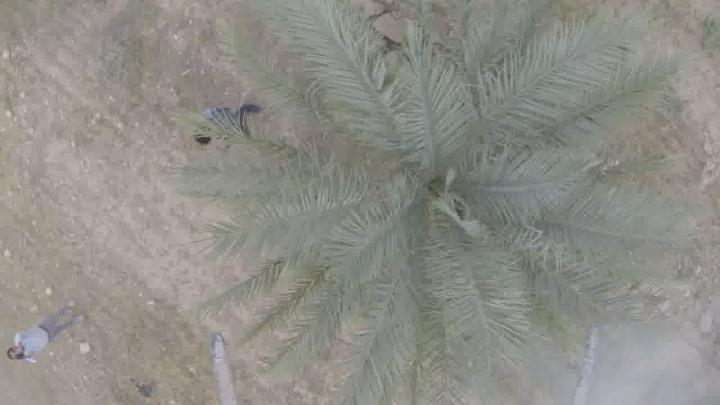Date-Palm-Crown: (278, 82, 588, 306)
